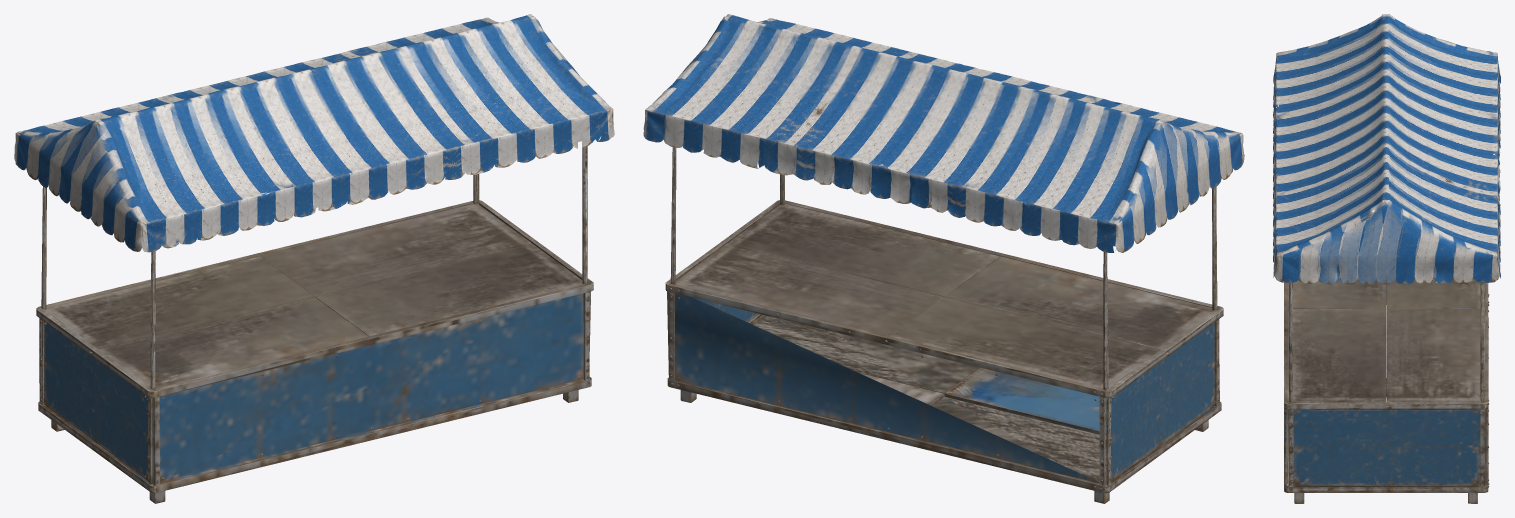
File: torikoju_sininen_raita_meshy.glb
3 renders of one model, left to right at view 1: azimuth 30°, elevation 25°; view 2: azimuth 150°, elevation 25°; view 3: azimuth 270°, elevation 25°, orthographic. The views are drawn at different scales.
Bounding box in the file's own units: 2.9 × 2 × 1.35.
Materials: 1 (1 with a texture image).
